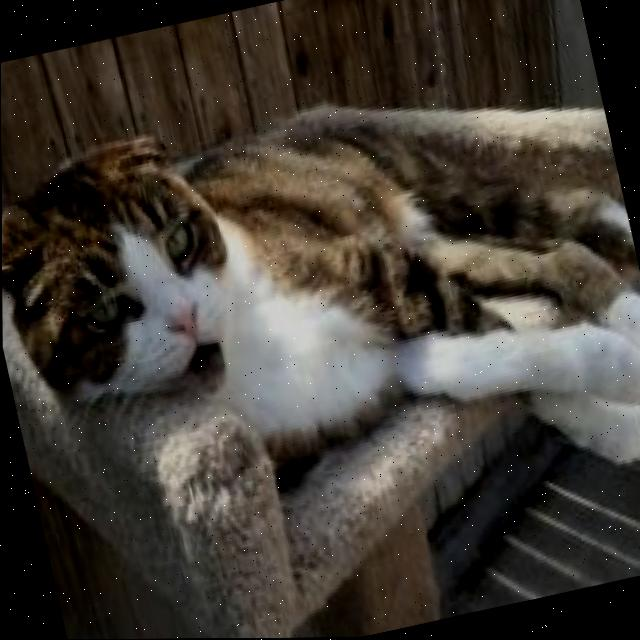Scottish Fold: (0, 23, 640, 591)
